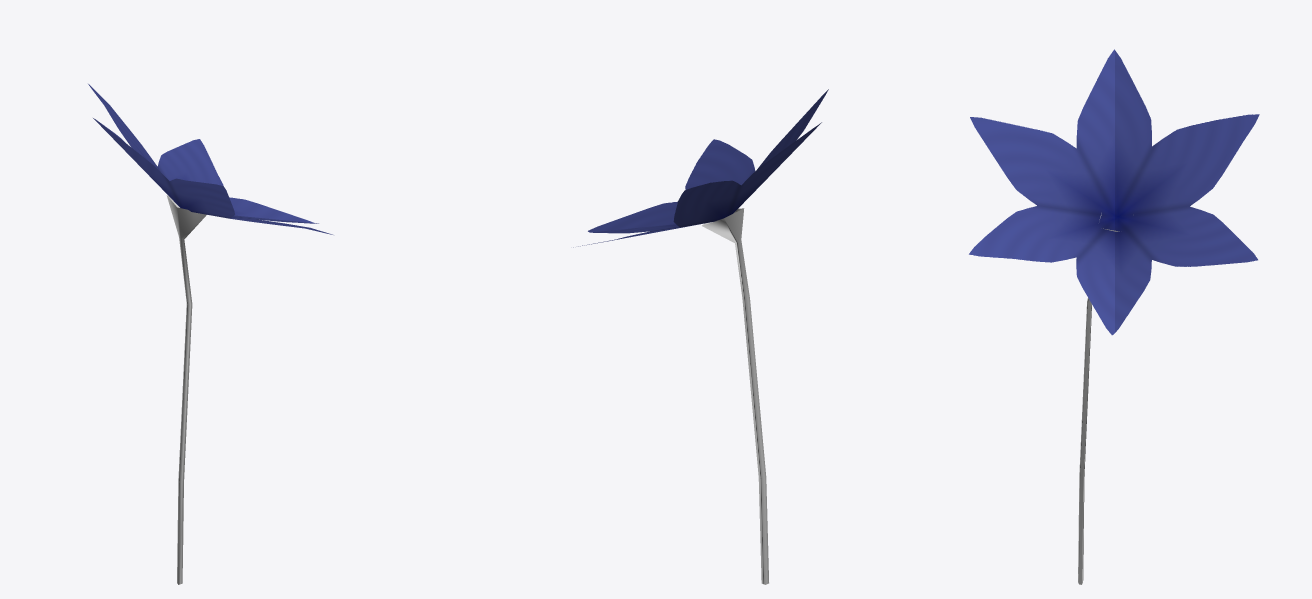
File: BlueFlower.fbx
3 renders of one model, left to right at view 1: azimuth 30°, elevation 25°; view 2: azimuth 150°, elevation 25°; view 3: azimuth 270°, elevation 25°, orthographic. The views are drawn at different scales.
Visible parts, largest first — view 1: Plane.010; view 2: Plane.010; view 3: Plane.010.
Boxes of the visible parts, x1=… form: Plane.010: x1=88, y1=84, x2=332, y2=584; Plane.010: x1=573, y1=89, x2=828, y2=584; Plane.010: x1=969, y1=49, x2=1259, y2=584.
Size of the model in its own units: 467 by 857 by 528.
